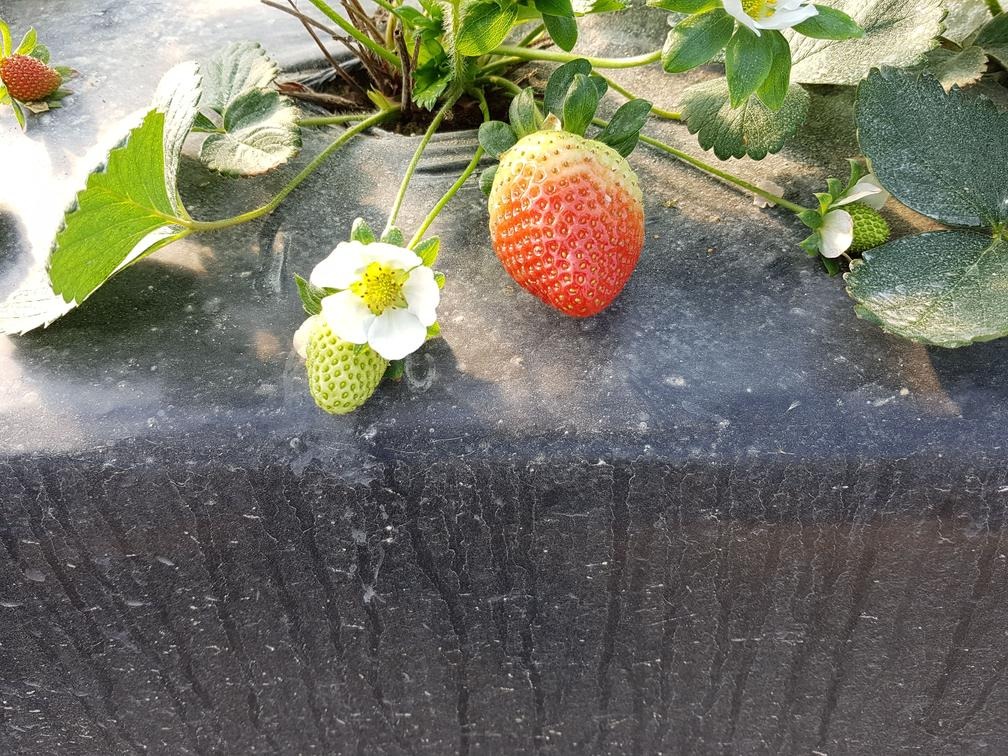Ripe: (478, 119, 663, 319)
Unripe: (295, 316, 402, 416)
